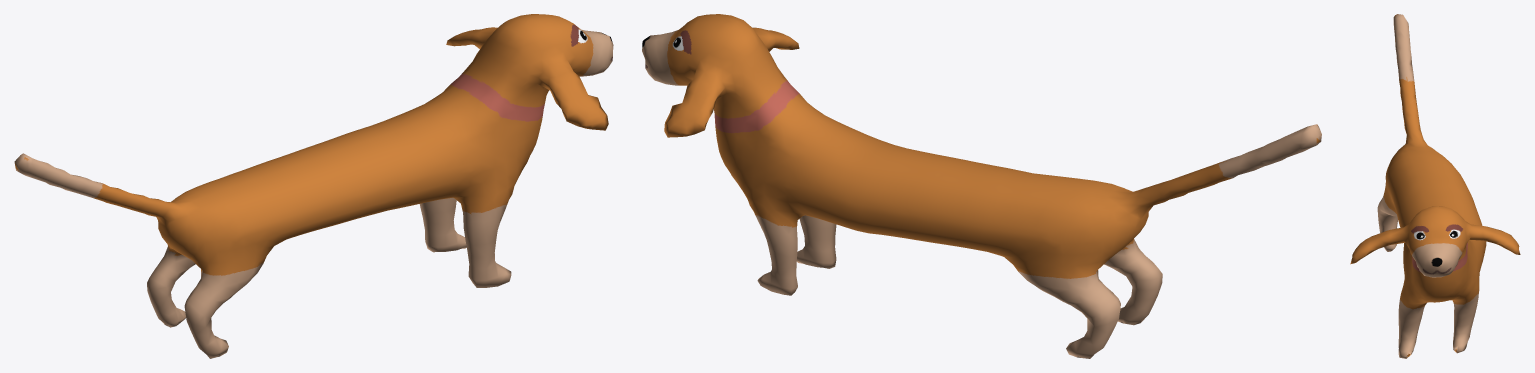
File: dog_aug_8.obj
The picture shows the model from 3 angles, left to right: view 1: azimuth 30°, elevation 25°; view 2: azimuth 150°, elevation 25°; view 3: azimuth 270°, elevation 25°; orthographic projection. The views are drawn at different scales.
Size of the model in its own units: 109 by 41.3 by 36.3.
1 material, 1 textured.
